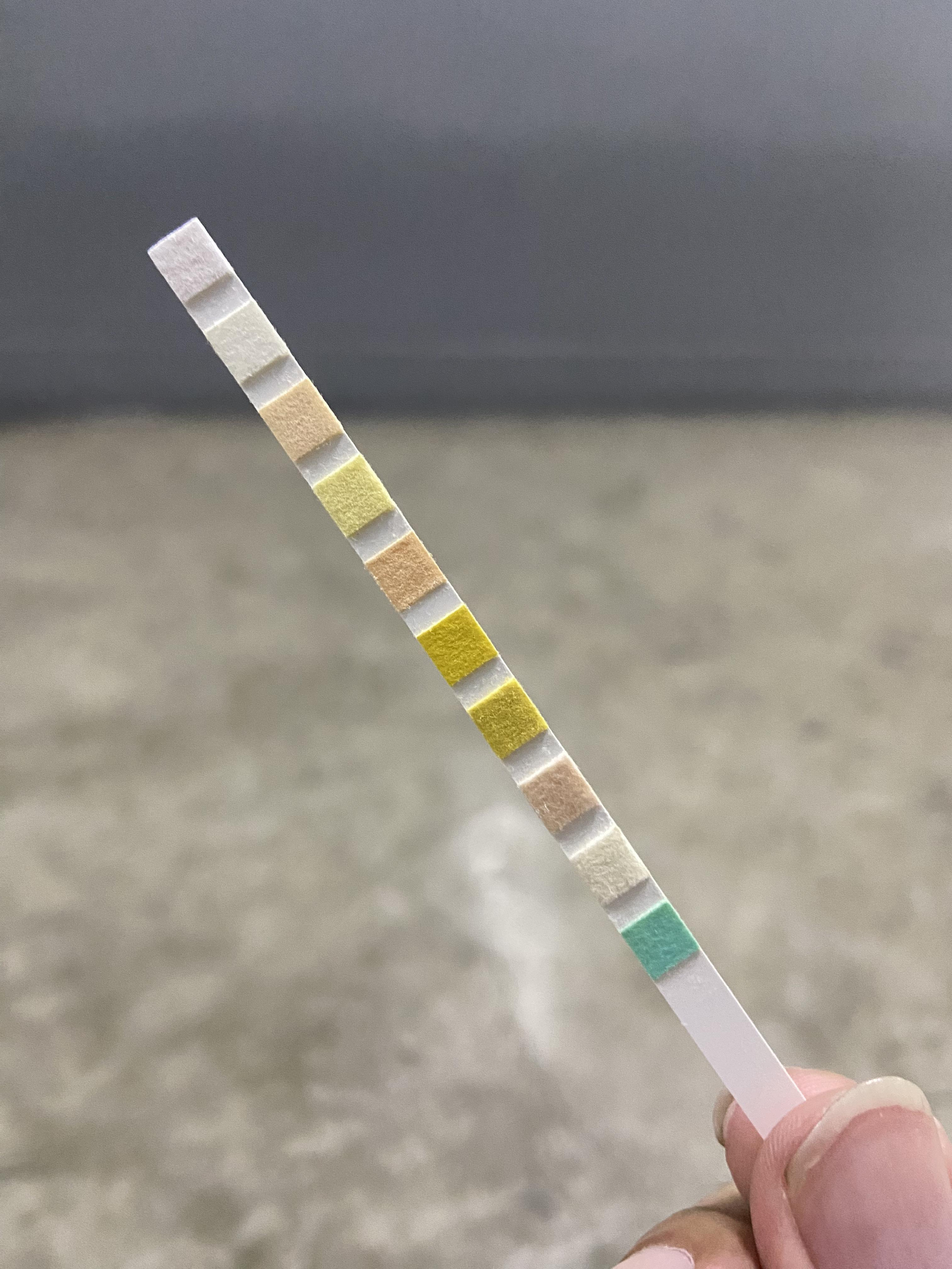Bilirubin: (592, 844, 627, 890)
Blood: (438, 622, 476, 669)
Glucose: (644, 917, 676, 964)
Ketone: (540, 771, 573, 818)
Leukocytes: (171, 235, 210, 285)
Nitrite: (224, 316, 265, 365)
Protein: (334, 470, 372, 519)
SpGravity: (488, 697, 524, 743)
Urobilinogen: (281, 393, 319, 445)
pH: (388, 547, 423, 594)
strip: (148, 217, 808, 1136)
